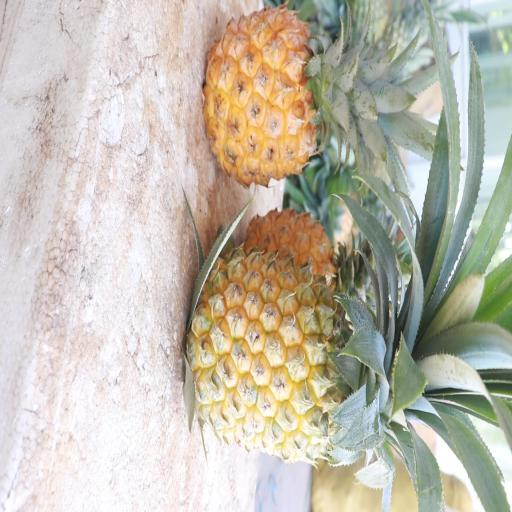Pineapple - v8 v1: (186, 245, 444, 466), (199, 0, 383, 194), (242, 199, 371, 320)
